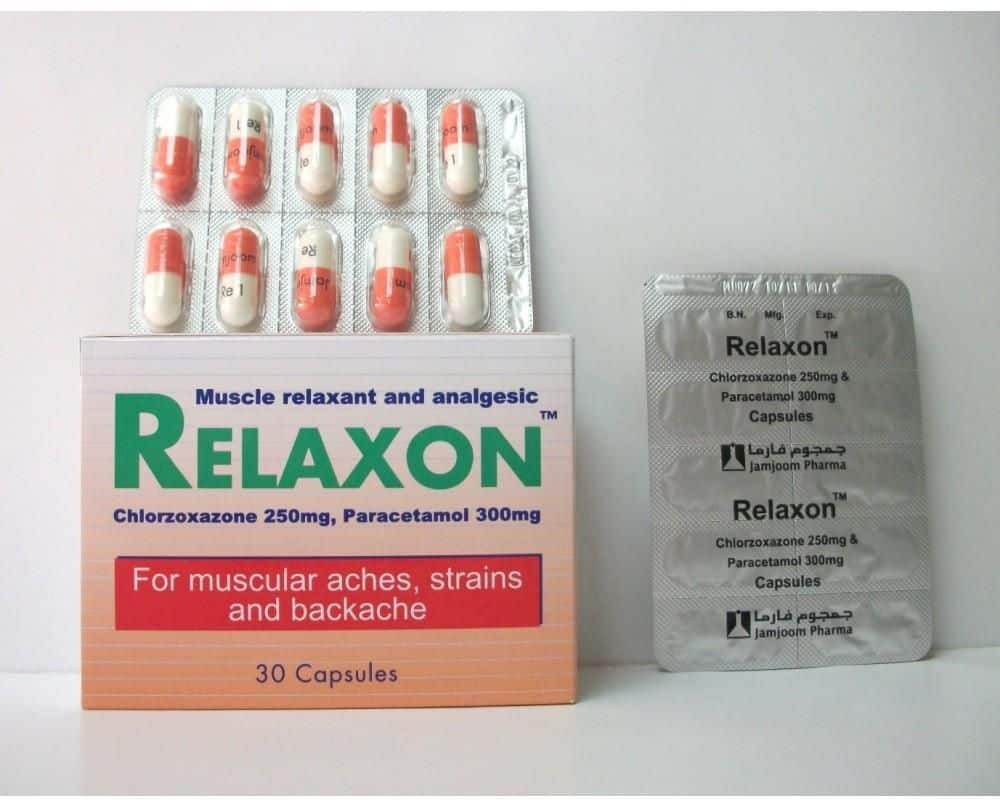Medicine: (66, 326, 586, 720), (632, 262, 946, 674)
